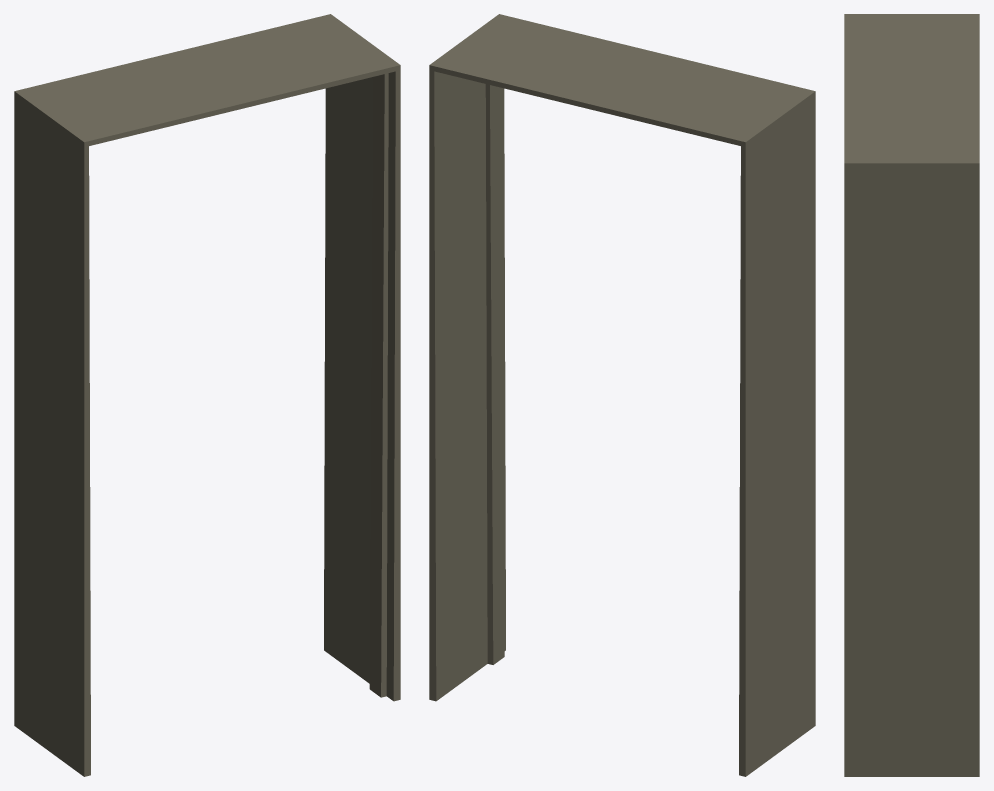
The model's file is doorframe_01.glb.
The picture shows the model from 3 angles, left to right: view 1: azimuth 30°, elevation 25°; view 2: azimuth 150°, elevation 25°; view 3: azimuth 270°, elevation 25°; orthographic projection. The views are drawn at different scales.
Visible parts, largest first — view 1: DoorFrame_01; view 2: DoorFrame_01; view 3: DoorFrame_01.
Boxes of the visible parts, <box> form: DoorFrame_01: <box>14,14,400,776</box>; DoorFrame_01: <box>429,14,815,776</box>; DoorFrame_01: <box>844,14,979,776</box>.
Size of the model in its own units: 1.2 by 2.3 by 0.4586.
Materials: 1 (1 with a texture image).
